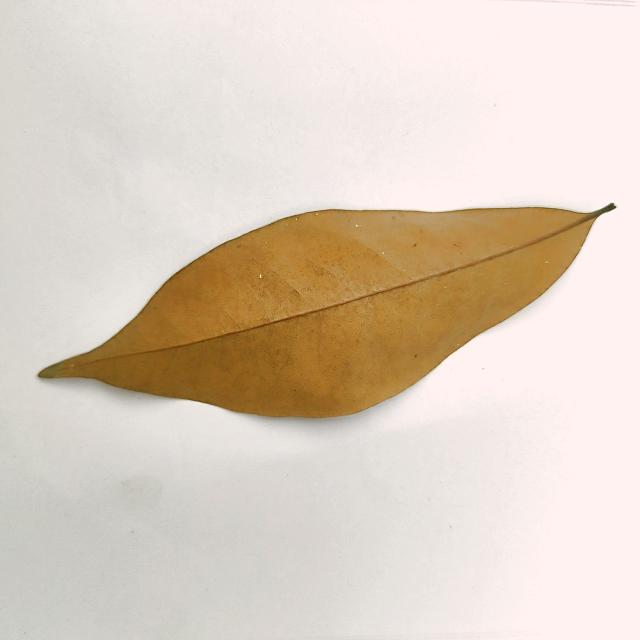Dry_Leaf-Lychee: (38, 207, 616, 422)
